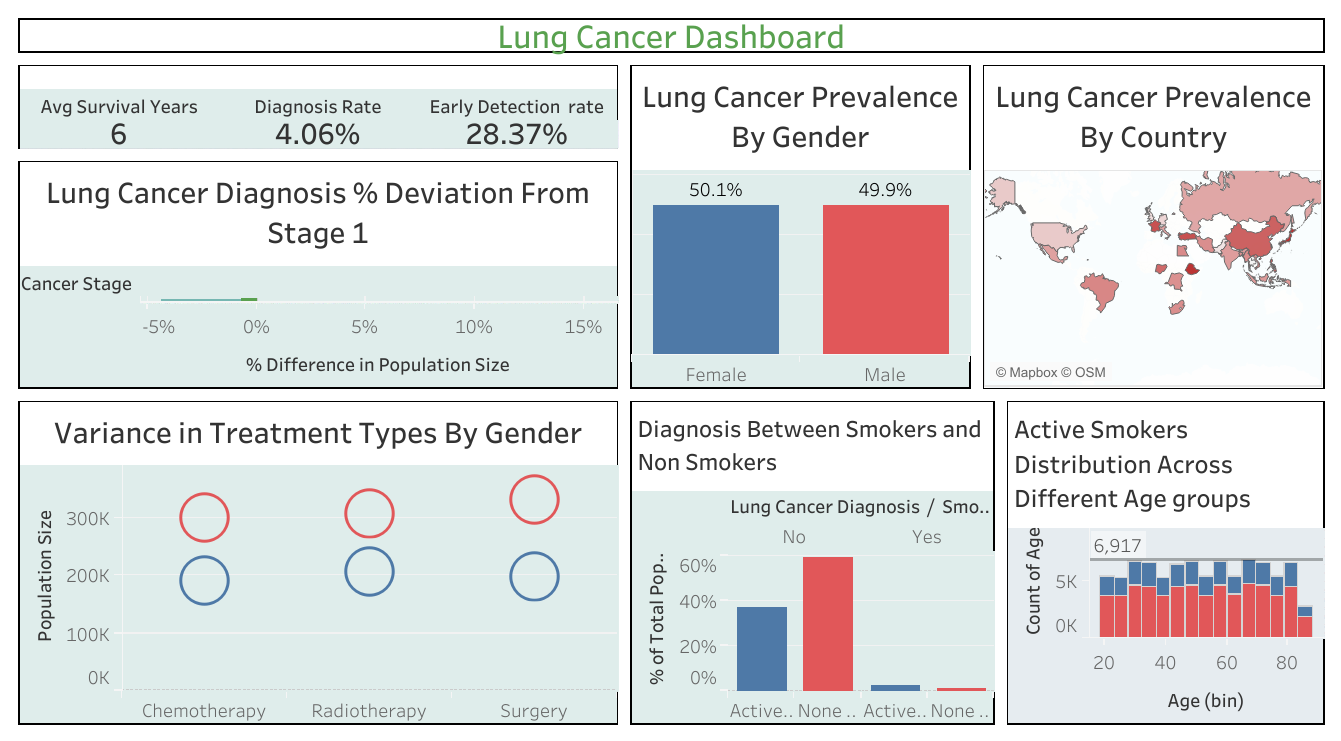

The page's visual inventory and layout, read from the dashboard file:
{"tool":"tableau","page":{"name":"Dashboard 3","canvas":[1000,1000],"units":"permille","ordinal":0},"visuals":[{"type":"text","box":[4.2,10.6,991.5,63.3]},{"type":"worksheet","title":"Health Indicators","mark":"Automatic","box":[4.2,73.9,459.9,130.6]},{"type":"worksheet","title":"Gender prevalence","mark":"Automatic","rows":["Lung_Cancer_Prevalence_Rate"],"cols":["Gender"],"box":[464.2,73.9,265.8,457.8]},{"type":"worksheet","title":"Prevalence By country","mark":"Automatic","box":[729.9,73.9,265.8,457.8]},{"type":"worksheet","title":"Diagnosis/Stages","mark":"Automatic","rows":["Cancer_Stage"],"box":[4.2,204.5,459.9,327.2]},{"type":"worksheet","title":"Treatment  type/gender","mark":"Shape","rows":["Population_Size"],"cols":["Treatment_Type"],"box":[4.2,531.7,459.9,457.8]},{"type":"worksheet","title":"Diagnosis /Smokers","mark":"Automatic","rows":["Population_Size"],"cols":["Lung_Cancer_Diagnosis","Smoker"],"box":[464.2,531.7,283.7,457.8]},{"type":"worksheet","title":"Active Smokers /Age","mark":"Automatic","rows":["Age"],"cols":["Age (bin)"],"box":[747.8,531.7,247.9,457.8]}]}

Visuals, with their boxes on the dashboard's canvas, which has no fixed pixel size, in thousandths of its width and height (x1, y1, x2, y2). These are canvas units, not pixel positions in the 1341x741 screenshot, which may show the page scaled, cropped or inside an application window:
text: <bbox>4, 11, 996, 74</bbox>
"Health Indicators" worksheet: <bbox>4, 74, 464, 204</bbox>
"Gender prevalence" worksheet: <bbox>464, 74, 730, 532</bbox>
"Prevalence By country" worksheet: <bbox>730, 74, 996, 532</bbox>
"Diagnosis/Stages" worksheet: <bbox>4, 204, 464, 532</bbox>
"Treatment  type/gender" worksheet (Shape marks): <bbox>4, 532, 464, 990</bbox>
"Diagnosis /Smokers" worksheet: <bbox>464, 532, 748, 990</bbox>
"Active Smokers /Age" worksheet: <bbox>748, 532, 996, 990</bbox>
